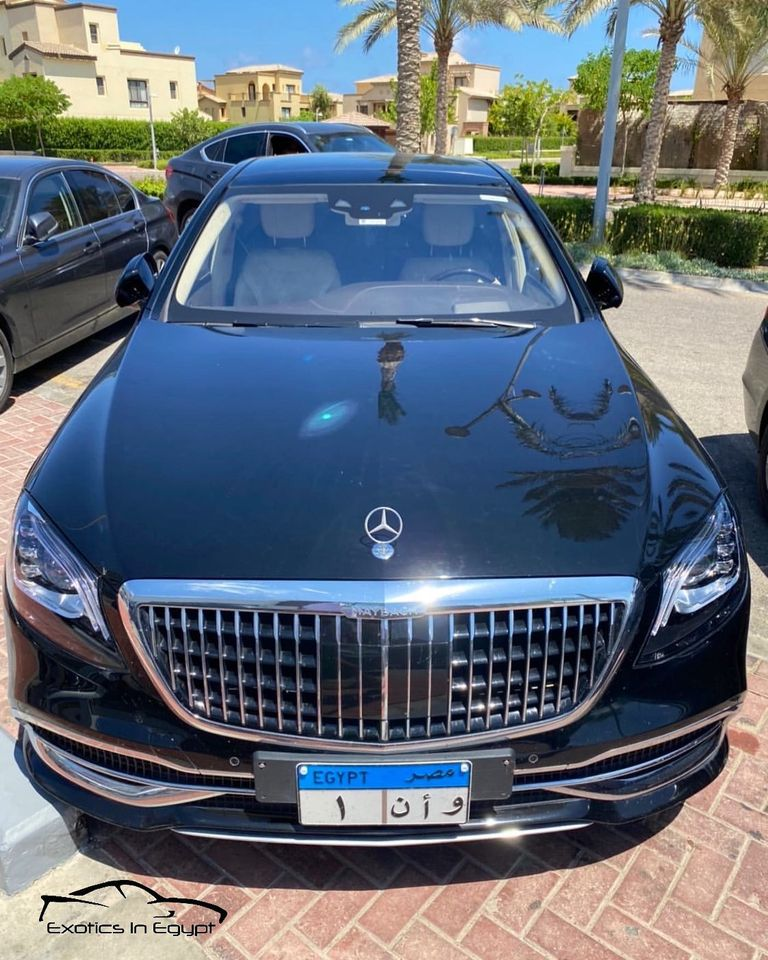carpl: (297, 765, 472, 822)
